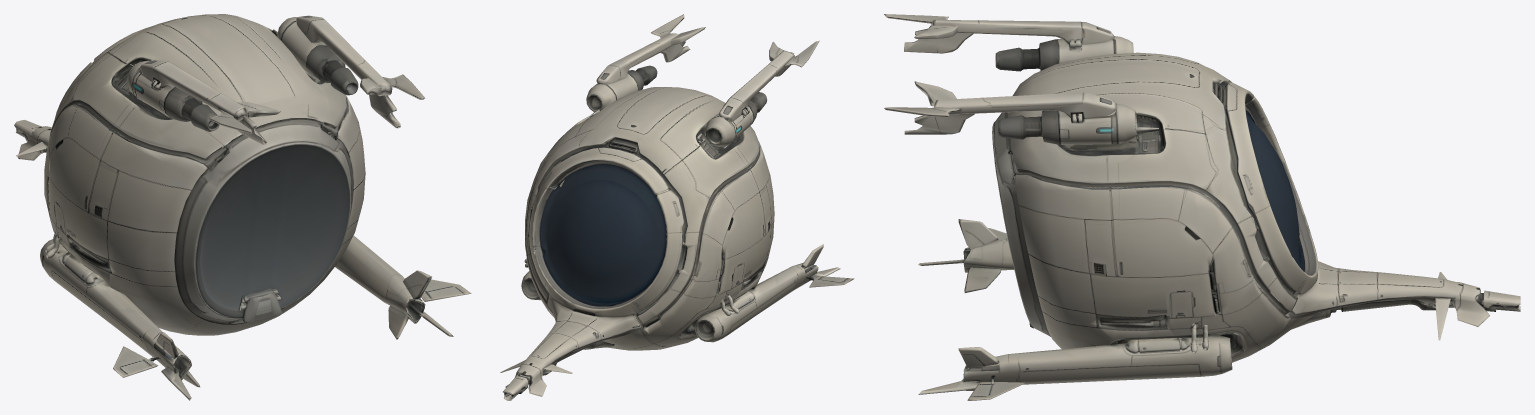
The picture shows the model from 3 angles, left to right: view 1: azimuth 30°, elevation 25°; view 2: azimuth 150°, elevation 25°; view 3: azimuth 270°, elevation 25°; orthographic projection. The views are drawn at different scales.
Visible parts, largest first — view 1: tripo_node_692cd0c7-c77f-4be8-a844-d04ddbf001a2; view 2: tripo_node_692cd0c7-c77f-4be8-a844-d04ddbf001a2; view 3: tripo_node_692cd0c7-c77f-4be8-a844-d04ddbf001a2.
Part boxes in pixels (left/top/right/bottom): tripo_node_692cd0c7-c77f-4be8-a844-d04ddbf001a2: left=14, top=14, right=471, bottom=400; tripo_node_692cd0c7-c77f-4be8-a844-d04ddbf001a2: left=500, top=14, right=854, bottom=400; tripo_node_692cd0c7-c77f-4be8-a844-d04ddbf001a2: left=884, top=14, right=1520, bottom=400.
Bounding box in the file's own units: 0.6372 × 0.5347 × 0.9995.
1 material, 1 textured.
